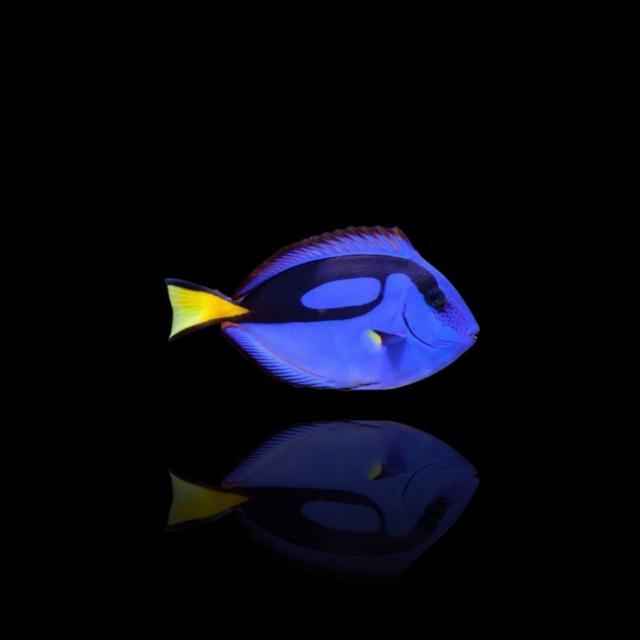BlueTang: (167, 227, 481, 391)
